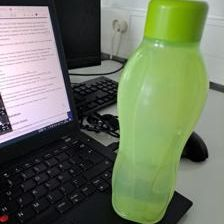bottle: (109, 0, 213, 221)
